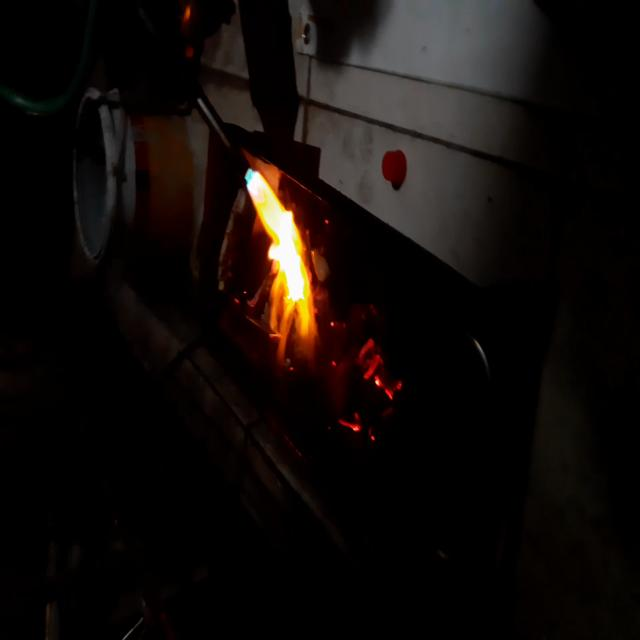Fire: (247, 160, 318, 375), (326, 306, 408, 452)
